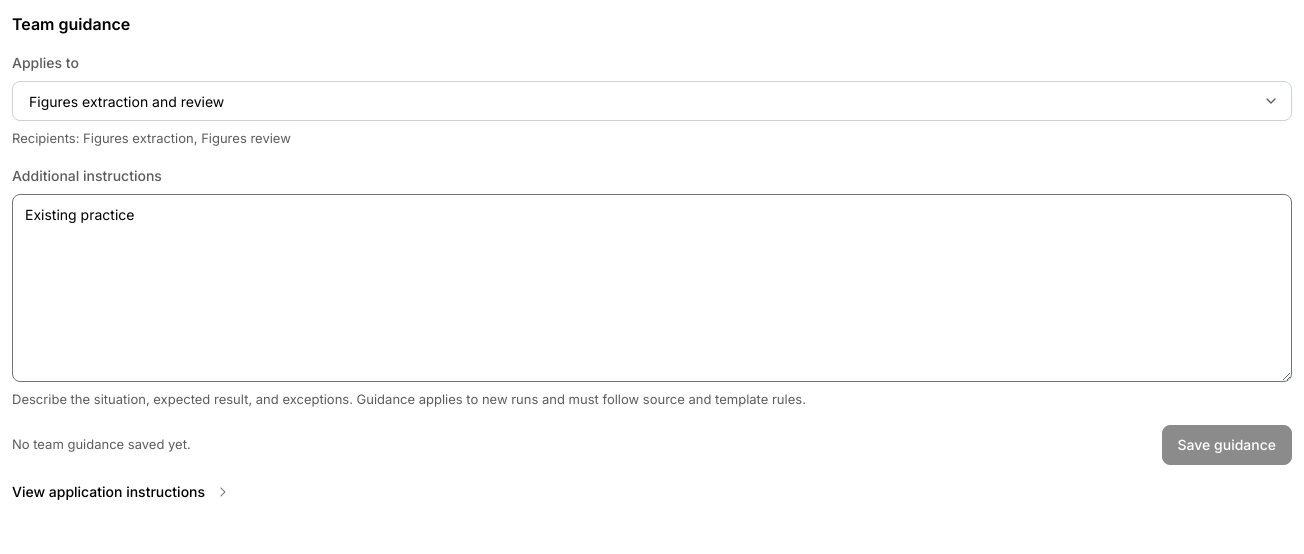
Scenario: save failure 400 preserves the user's text
Replace the text in the text box labelled "Additional instructions" with "Unsaved practice" at (652, 288), box [12,194,1292,382]
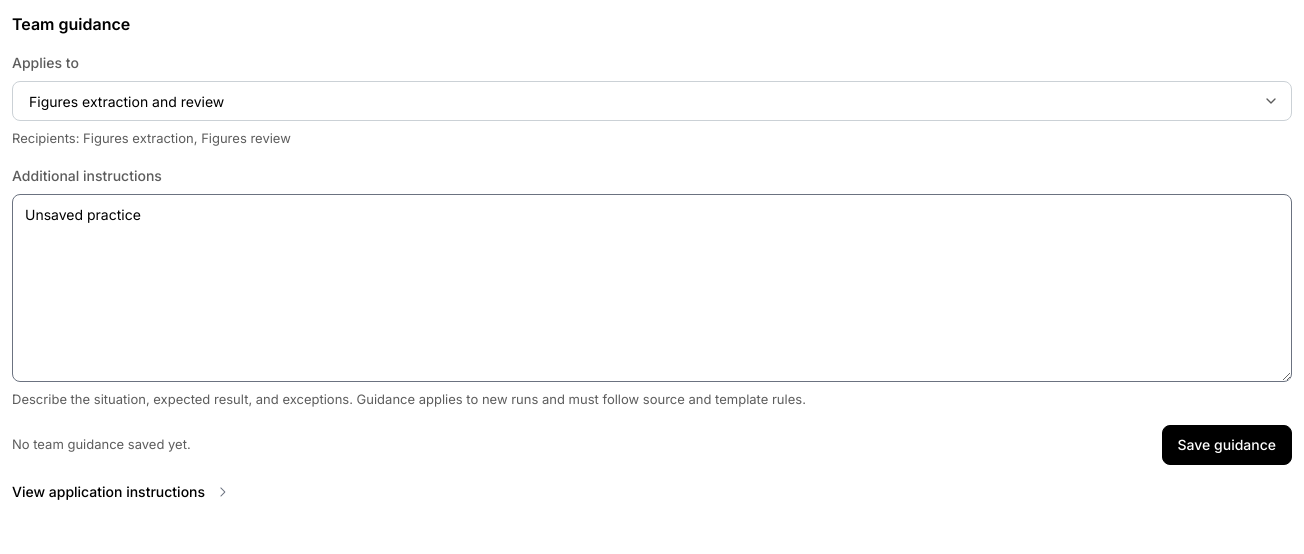
Click the button "Save guidance" at (1227, 445), box [1162,425,1292,465]
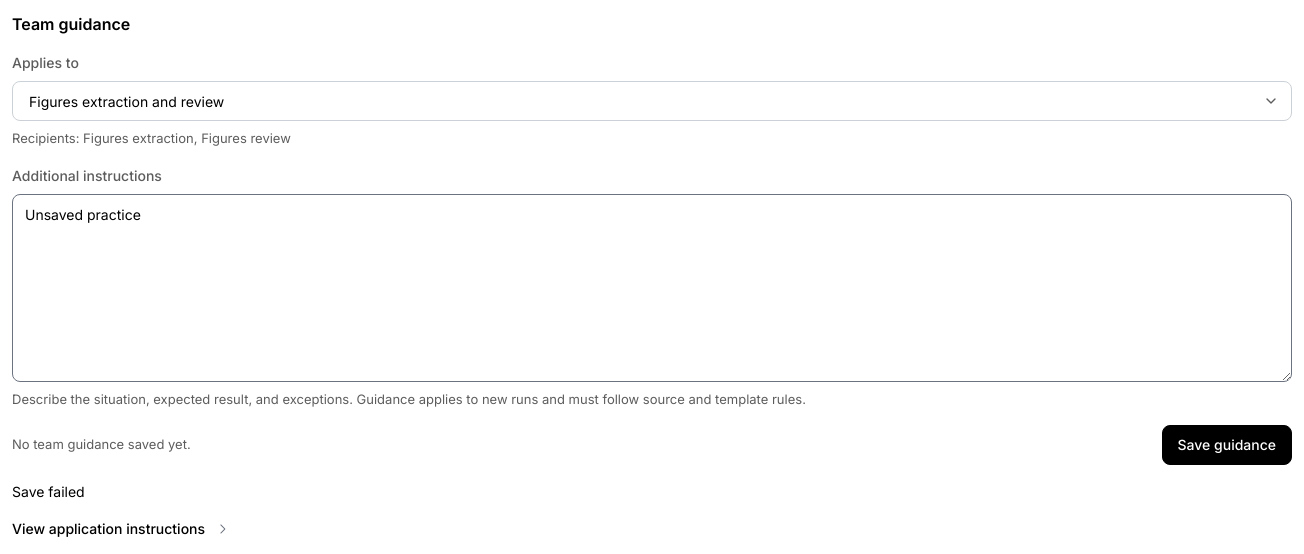
Expected: the message "Save failed" is shown, [12,483,85,500]
